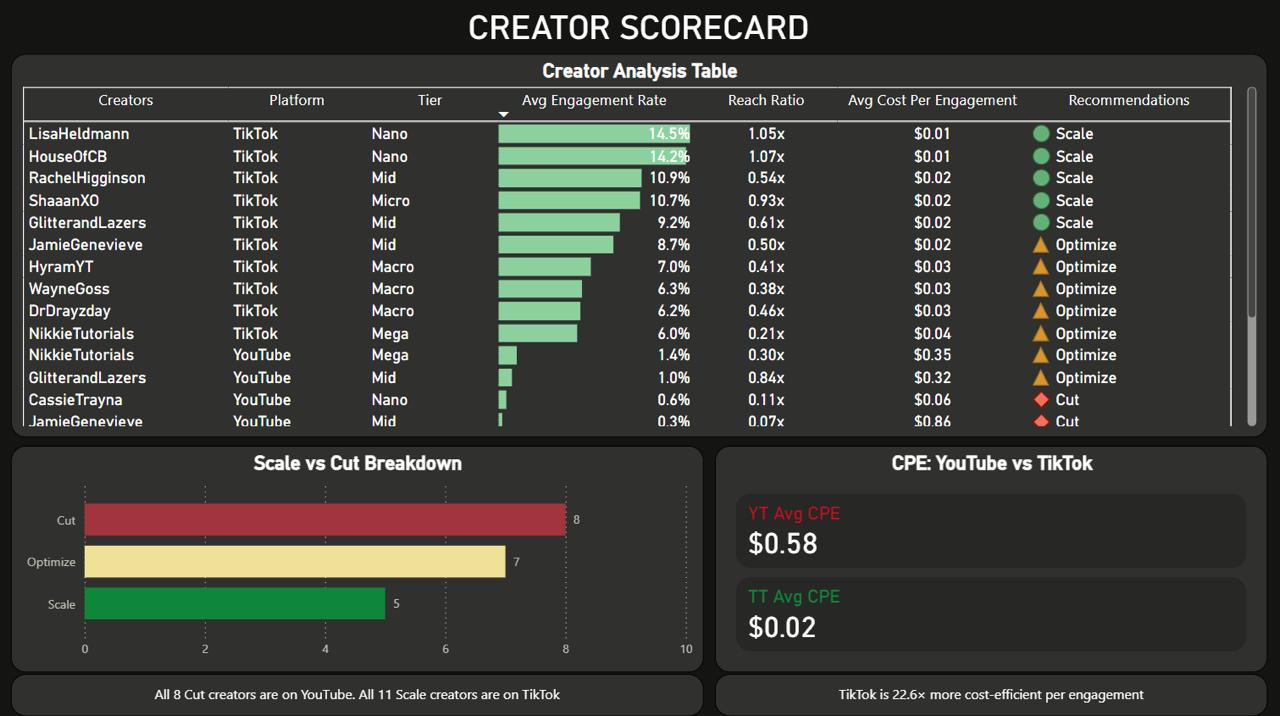

Layout of this report page (visuals, bound fields, positions):
{"tool":"powerbi","page":{"name":"Creator Scorecard","canvas":[1280,720],"ordinal":1},"visuals":[{"type":"textbox","box":[385.9,10.5,506.8,48.4],"z":0},{"type":"tableEx","title":"Creator Analysis Table","fields":{"Values":["CreatorScorecard.creator_handle","CreatorScorecard.platform","CreatorScorecard.tier","CreatorScorecard.avg_er","CreatorScorecard.Reach Ratio","CreatorScorecard.avg_cpe","CreatorScorecard.recommendation"]},"box":[16.1,60.7,1248.3,380.6],"z":1000},{"type":"clusteredBarChart","title":"Scale vs Cut Breakdown","fields":{"Category":["CreatorScorecard.recommendation"],"Y":["CountNonNull(CreatorScorecard.video_count)"]},"box":[16.1,450,688,225.6],"z":2000},{"type":"textbox","box":[16.1,676.8,688,42.1],"z":3000},{"type":"cardVisual","title":"CPE: YouTube vs TikTok","fields":{"Data":["VideoMetrics.YT Avg CPE","VideoMetrics.TT Avg CPE"]},"box":[715.2,450,549.1,225.6],"z":4000},{"type":"textbox","box":[715.2,676.8,549.1,42.1],"z":5000}]}

Visuals, with their boxes in screenshot pixels (x1, y1, x2, y2), scaled from the page's 1280x720 canvas onto the 1280x716 screenshot:
textbox: rect(386, 10, 893, 59)
"Creator Analysis Table" tableEx: rect(16, 60, 1264, 439)
"Scale vs Cut Breakdown" clusteredBarChart: rect(16, 448, 704, 672)
textbox: rect(16, 673, 704, 715)
"CPE: YouTube vs TikTok" cardVisual: rect(715, 448, 1264, 672)
textbox: rect(715, 673, 1264, 715)
